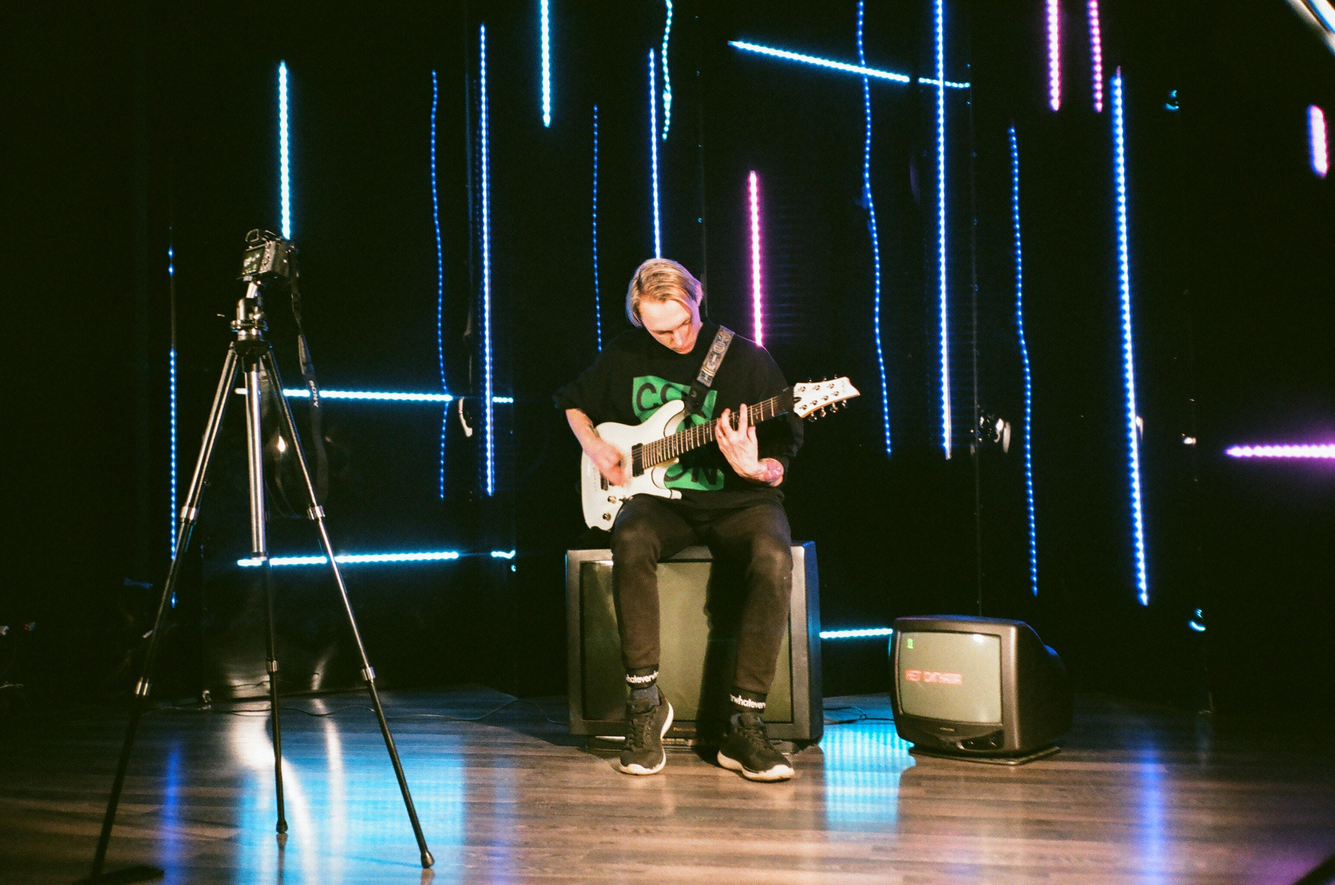acousticguitar: (579, 369, 861, 538)
